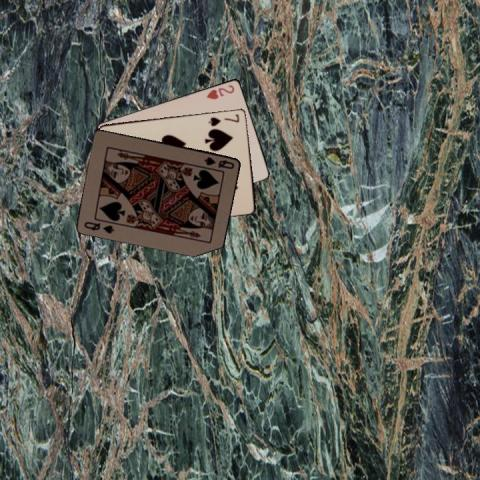2h: (203, 81, 236, 101)
7s: (205, 112, 241, 128)
Qs: (201, 153, 236, 170), (82, 218, 115, 234)
